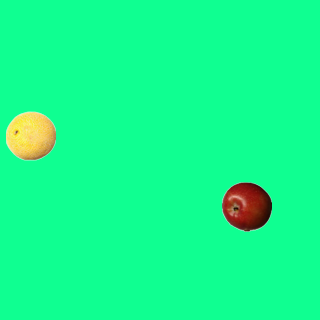Apple Braeburn: (221, 181, 271, 231)
Cantaloupe 1: (5, 110, 55, 160)
